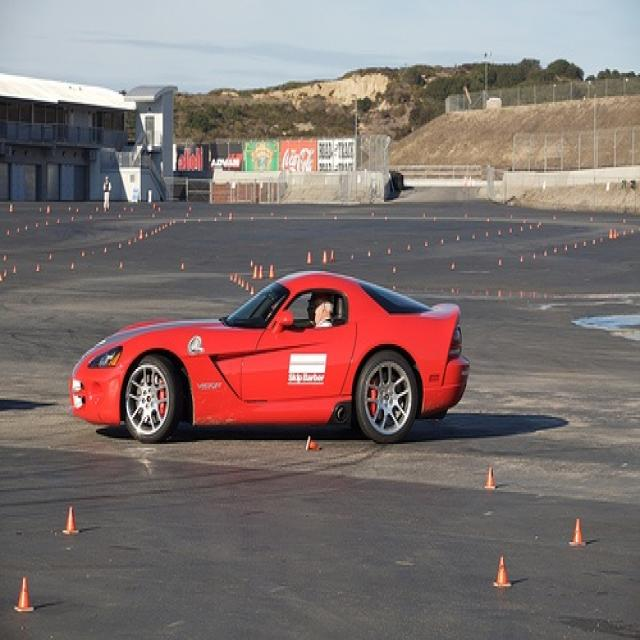car: (68, 269, 471, 446)
